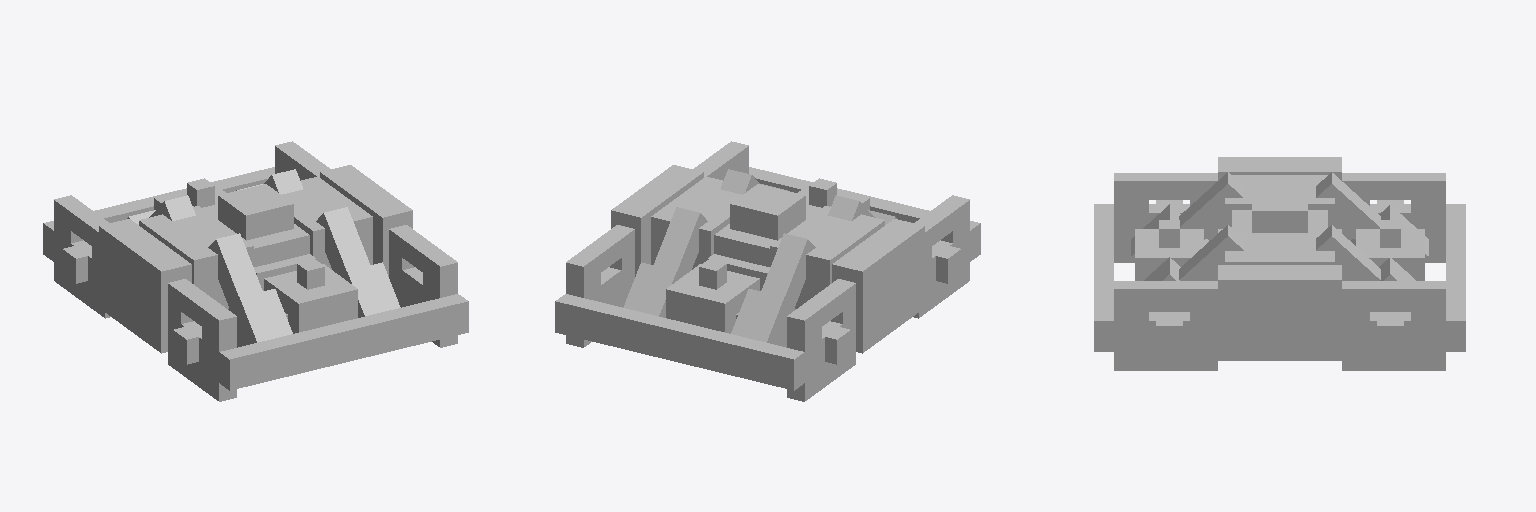
File: frame.obj
3 renders of one model, left to right at view 1: azimuth 30°, elevation 25°; view 2: azimuth 150°, elevation 25°; view 3: azimuth 270°, elevation 25°, orthographic.
Parts seen in each view (by area): view 1: cube.051; view 2: cube.051; view 3: cube.051.
Boxes of the visible parts, <box> form: cube.051: <box>43,141,468,401</box>; cube.051: <box>555,141,980,401</box>; cube.051: <box>1094,157,1465,370</box>.
Size of the model in its own units: 2.75 by 1.12 by 3.38.